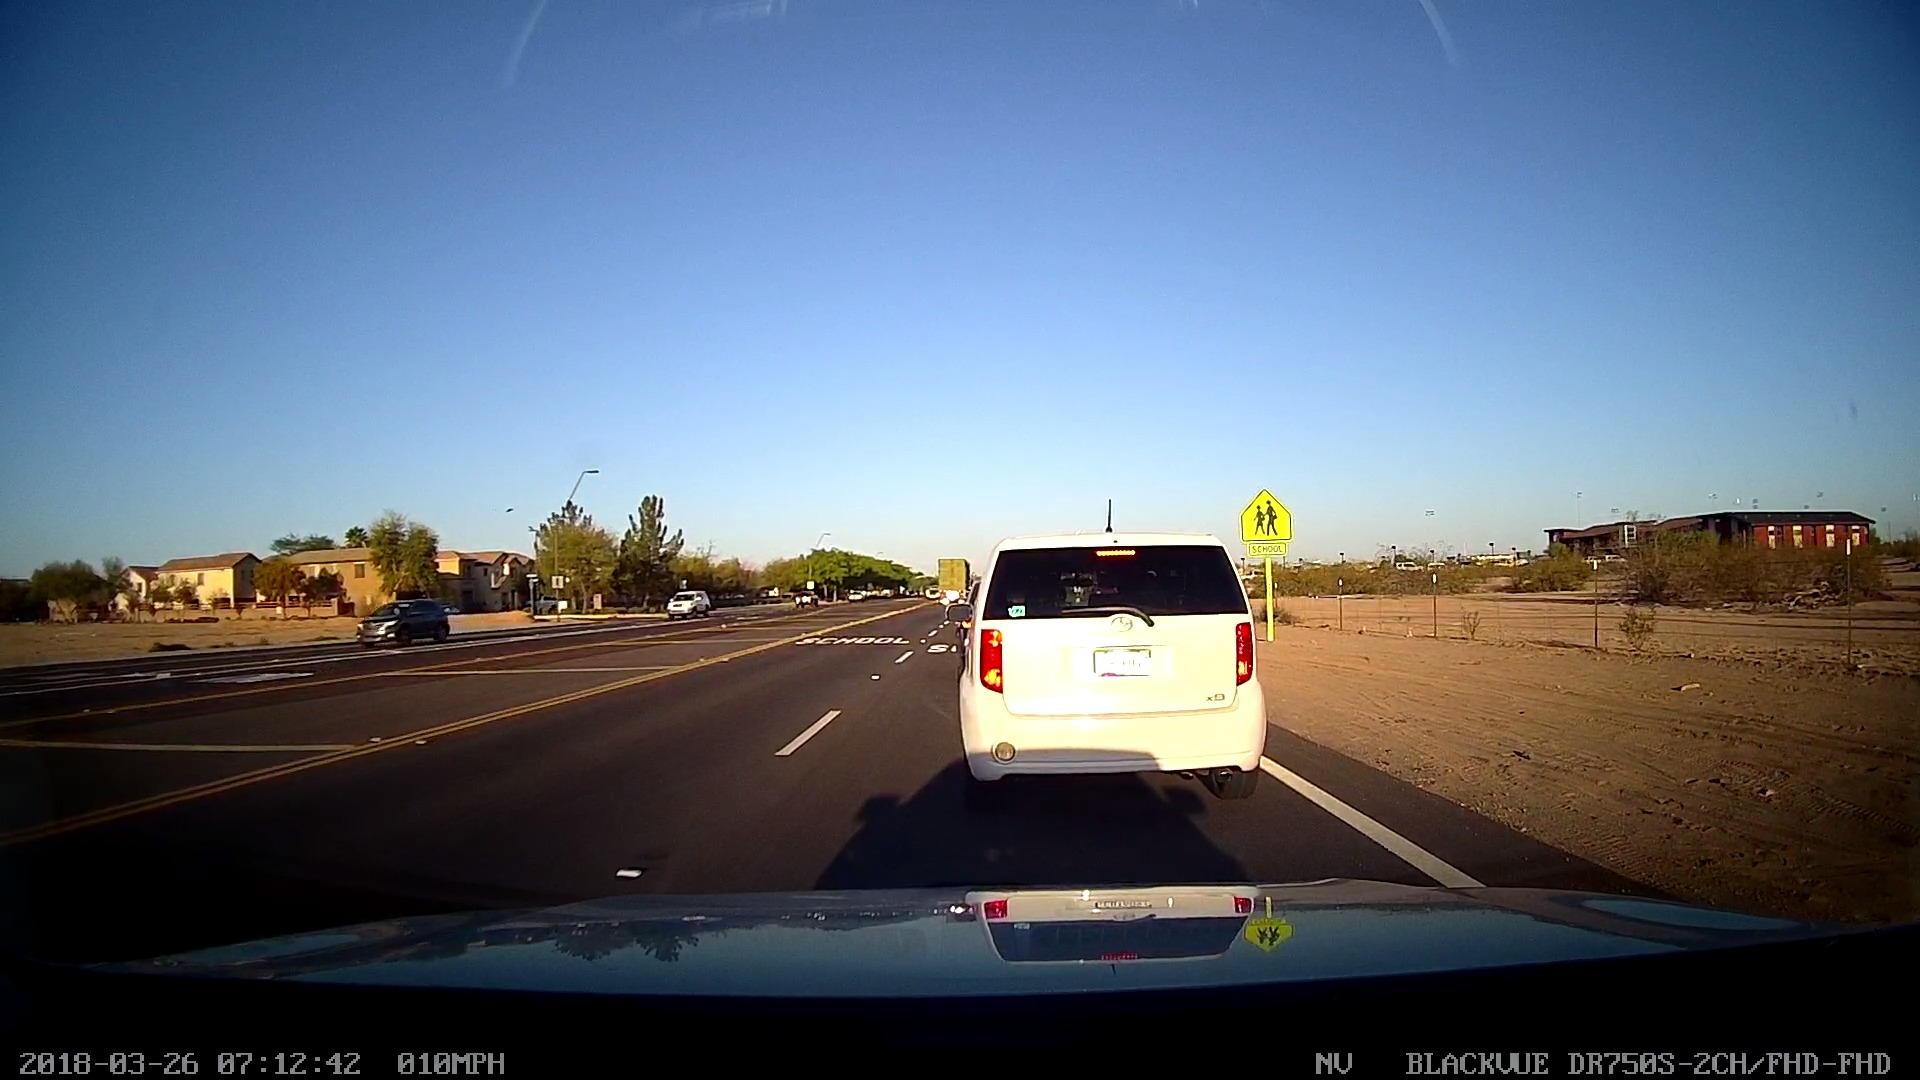plate: (1084, 640, 1166, 681)
vehicle: (952, 529, 1277, 799), (349, 588, 458, 651), (660, 585, 715, 621)
